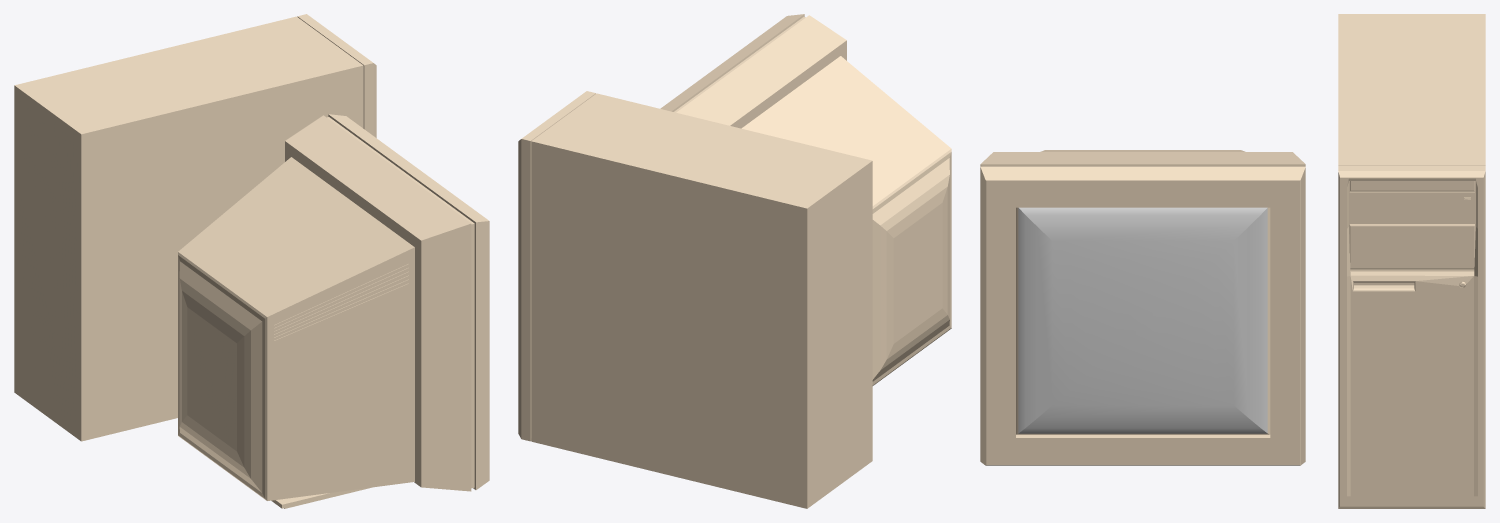
3 views of the same model, side by side, from view 1: azimuth 30°, elevation 25°; view 2: azimuth 150°, elevation 25°; view 3: azimuth 270°, elevation 25° (orthographic). The views are drawn at different scales.
Visible parts, largest first — view 1: Cube, Cube.001; view 2: Cube.001, Cube; view 3: Cube, Cube.001.
Boxes of the visible parts, box(x1,y1,x2,y2) form: Cube: box(178, 114, 489, 508); Cube.001: box(14, 14, 376, 441); Cube.001: box(518, 91, 872, 508); Cube: box(660, 14, 951, 385); Cube: box(980, 150, 1305, 465); Cube.001: box(1338, 14, 1485, 508).
Bounding box in the file's own units: 675 × 667 × 903.
